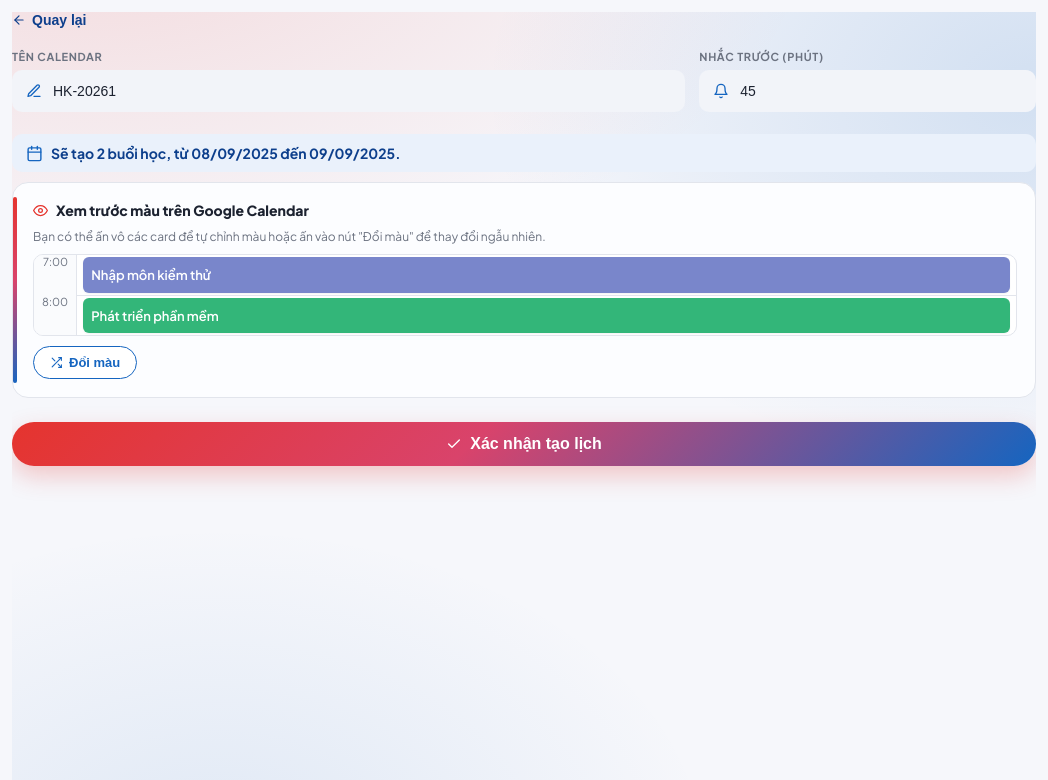
Test: CalendarConfigStep › báo lỗi khi số phút nhắc vượt giới hạn
Replace the text in the number field labelled "Nhắc trước (phút)" with "99999": (868,91) top-left (699, 70), bottom-right (1036, 112)
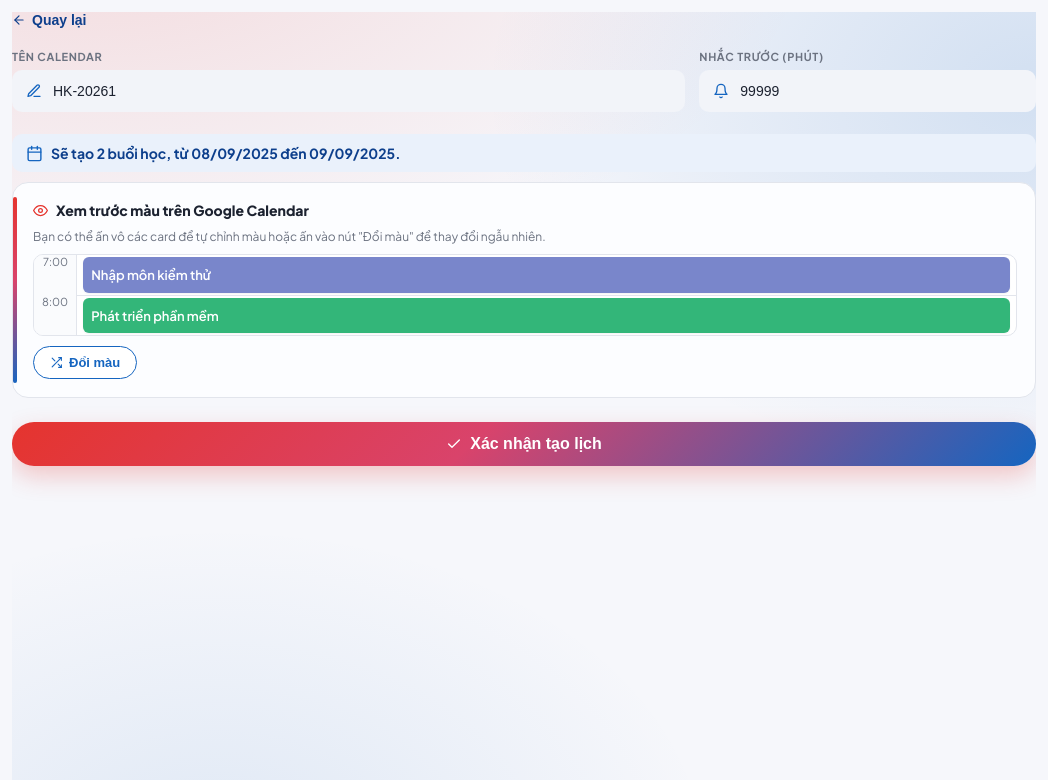
Click the button "Xác nhận tạo lịch": (524,444) top-left (12, 422), bottom-right (1036, 466)
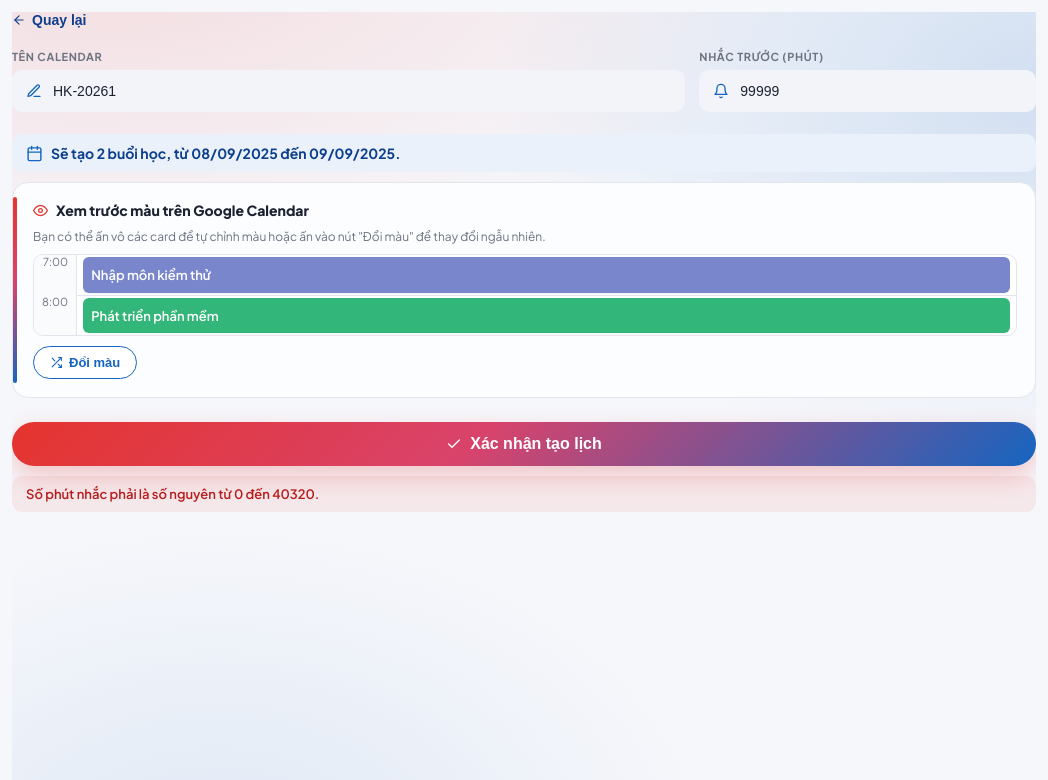
Expected: the message shows "Số phút nhắc phải là số nguyên", top-left (26, 486), bottom-right (319, 502)
